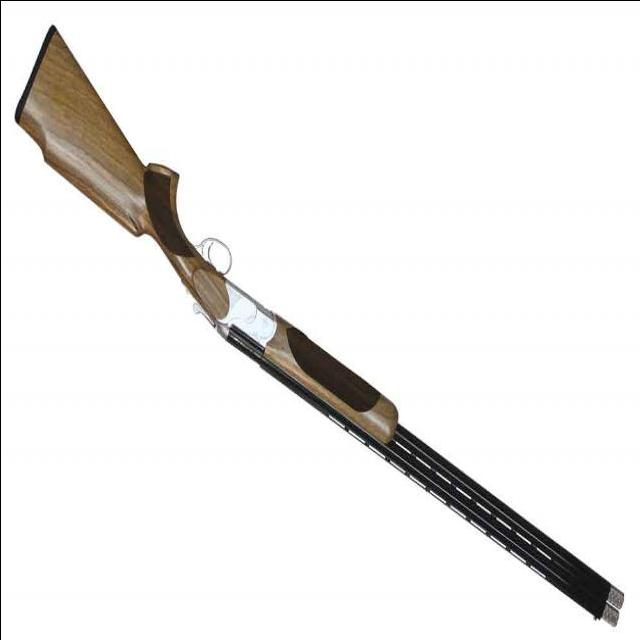shotgun: (2, 1, 630, 634)
